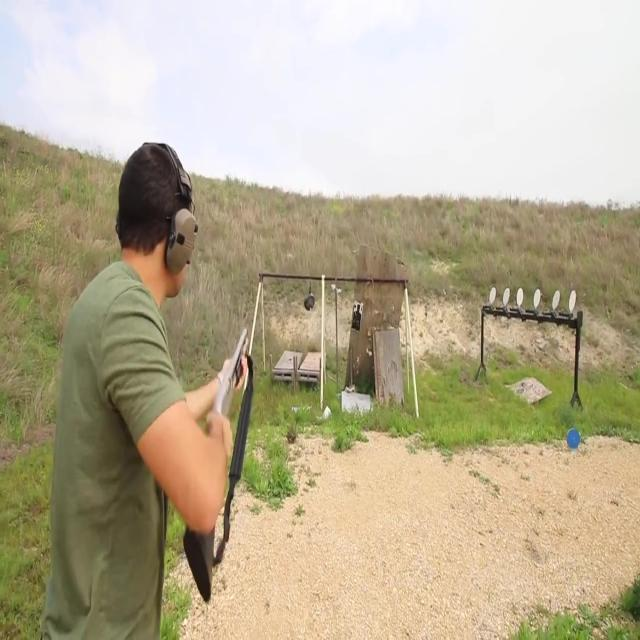Weapon: (174, 322, 260, 614)
